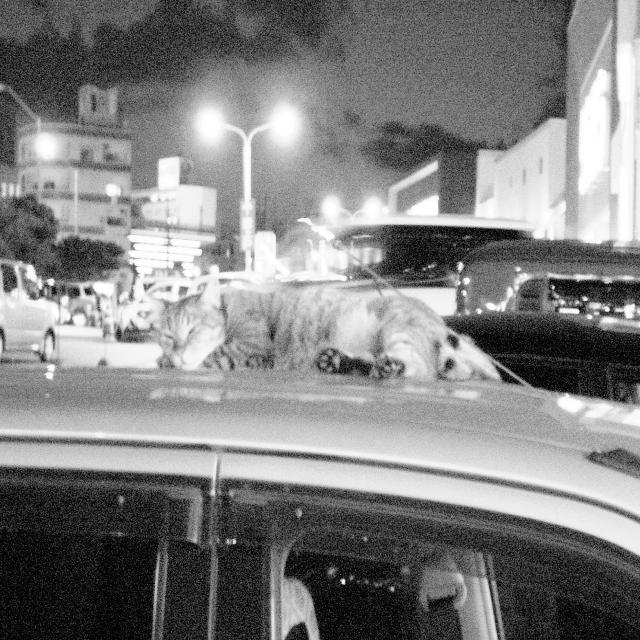Bus: (240, 183, 556, 335)
Car: (9, 351, 640, 640), (455, 233, 639, 353), (4, 246, 81, 392), (119, 277, 192, 331)
Cat: (141, 277, 509, 407)
